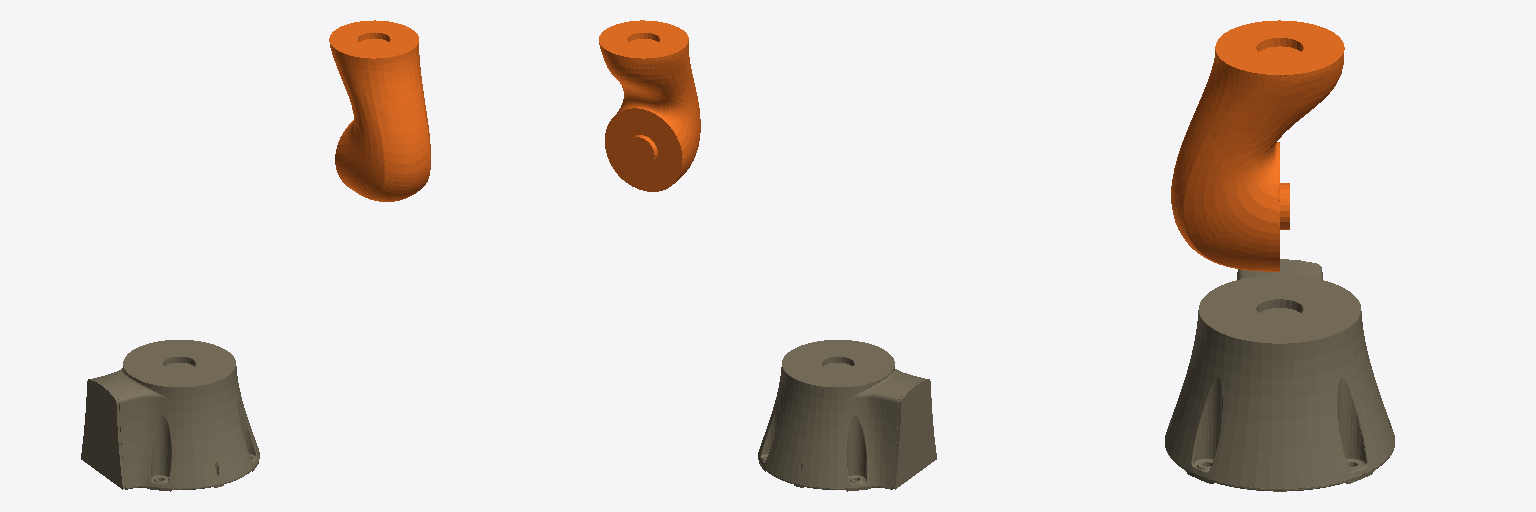
URDF robot description (kuka_kr6r700sixx):
<?xml version="1.0" encoding="utf-8"?>
<!-- =================================================================================== -->
<!-- |    This document was autogenerated by xacro from kr6r700sixx.xacro              | -->
<!-- |    EDITING THIS FILE BY HAND IS NOT RECOMMENDED                                 | -->
<!-- =================================================================================== -->
<robot name="kuka_kr6r700sixx">
  <!-- colours based on RAL values given in "FAQ - Colours of robot and robot
       controller", version "KUKA.Tifs | 2010-01-21 |YM| DefaultColorsRobotAndController.doc",
       downloaded 2015-07-18 from
       http://www.kuka.be/main/cservice/faqs/hardware/DefaultColorsRobotAndController.pdf

       all RAL colours converted using http://www.visual-graphics.de/en/customer-care/ral-colours
  -->
  <link name="base_link">
    <visual>
      <origin rpy="0 0 0" xyz="0 0 0"/>
      <geometry>
        <mesh filename="./meshes/kr6_agilus/visual/base_link.dae"/>
      </geometry>
      <material name="">
        <color rgba="0.505882352941 0.470588235294 0.388235294118 1.0"/>
      </material>
    </visual>
    <collision>
      <origin rpy="0 0 0" xyz="0 0 0"/>
      <geometry>
        <mesh filename="./meshes/kr6_agilus/collision/base_link.stl"/>
      </geometry>
    </collision>
  </link>
  <link name="link_1">
    <visual>
      <origin rpy="0 0 0" xyz="0 0 0"/>
      <geometry>
        <mesh filename="./meshes/kr6_agilus/visual/link_1.dae"/>
      </geometry>
      <material name="">
        <color rgba="0.964705882353 0.470588235294 0.156862745098 1.0"/>
      </material>
    </visual>
    <collision>
      <origin rpy="0 0 0" xyz="0 0 0"/>
      <geometry>
        <mesh filename="./meshes/kr6_agilus/collision/link_1.stl"/>
      </geometry>
    </collision>
  </link>
  <link name="link_2">
    <visual>
      <origin rpy="0 0 0" xyz="0 0 0"/>
      <geometry>
        <mesh filename="./meshes/kr6r700sixx/visual/link_2.dae"/>
      </geometry>
      <material name="">
        <color rgba="0.964705882353 0.470588235294 0.156862745098 1.0"/>
      </material>
    </visual>
    <collision>
      <origin rpy="0 0 0" xyz="0 0 0"/>
      <geometry>
        <mesh filename="./meshes/kr6r700sixx/collision/link_2.stl"/>
      </geometry>
    </collision>
  </link>
  <link name="link_3">
    <visual>
      <origin rpy="0 0 0" xyz="0 0 0"/>
      <geometry>
        <mesh filename="./meshes/kr6_agilus/visual/link_3.dae"/>
      </geometry>
      <material name="">
        <color rgba="0.964705882353 0.470588235294 0.156862745098 1.0"/>
      </material>
    </visual>
    <collision>
      <origin rpy="0 0 0" xyz="0 0 0"/>
      <geometry>
        <mesh filename="./meshes/kr6_agilus/collision/link_3.stl"/>
      </geometry>
    </collision>
  </link>
  <link name="link_4">
    <visual>
      <origin rpy="0 0 0" xyz="0 0 0"/>
      <geometry>
        <mesh filename="./meshes/kr6r700sixx/visual/link_4.dae"/>
      </geometry>
      <material name="">
        <color rgba="0.964705882353 0.470588235294 0.156862745098 1.0"/>
      </material>
    </visual>
    <collision>
      <origin rpy="0 0 0" xyz="0 0 0"/>
      <geometry>
        <mesh filename="./meshes/kr6r700sixx/collision/link_4.stl"/>
      </geometry>
    </collision>
  </link>
  <link name="link_5">
    <visual>
      <origin rpy="0 0 0" xyz="0 0 0"/>
      <geometry>
        <mesh filename="./meshes/kr6_agilus/visual/link_5.dae"/>
      </geometry>
      <material name="">
        <color rgba="0.964705882353 0.470588235294 0.156862745098 1.0"/>
      </material>
    </visual>
    <collision>
      <origin rpy="0 0 0" xyz="0 0 0"/>
      <geometry>
        <mesh filename="./meshes/kr6_agilus/collision/link_5.stl"/>
      </geometry>
    </collision>
  </link>
  <link name="link_6">
    <visual>
      <origin rpy="0 0 0" xyz="0 0 0"/>
      <geometry>
        <mesh filename="./meshes/kr6_agilus/visual/link_6.dae"/>
      </geometry>
      <material name="">
        <color rgba="0.505882352941 0.470588235294 0.388235294118 1.0"/>
      </material>
    </visual>
    <collision>
      <origin rpy="0 0 0" xyz="0 0 0"/>
      <geometry>
        <mesh filename="./meshes/kr6_agilus/collision/link_6.stl"/>
      </geometry>
    </collision>
  </link>
  <!-- This frame corresponds to the $FLANGE coordinate system in KUKA KRC controllers. -->
  <link name="tool0"/>
  <joint name="joint_a1" type="revolute">
    <origin rpy="0 0 0" xyz="0 0 0.4"/>
    <parent link="base_link"/>
    <child link="link_1"/>
    <axis xyz="0 0 -1"/>
    <limit effort="0" lower="-2.96705972839" upper="2.96705972839" velocity="6.28318530718"/>
  </joint>
  <joint name="joint_a2" type="revolute">
    <origin rpy="0 0 0" xyz="0.025 0 0"/>
    <parent link="link_1"/>
    <child link="link_2"/>
    <axis xyz="0 1 0"/>
    <limit effort="0" lower="-3.31612557879" upper="0.785398163397" velocity="5.23598775598"/>
  </joint>
  <joint name="joint_a3" type="revolute">
    <origin rpy="0 0 0" xyz="0.315 0 0"/>
    <parent link="link_2"/>
    <child link="link_3"/>
    <axis xyz="0 1 0"/>
    <limit effort="0" lower="-2.09439510239" upper="2.72271363311" velocity="6.28318530718"/>
  </joint>
  <joint name="joint_a4" type="revolute">
    <origin rpy="0 0 0" xyz="0 0 0.035"/>
    <parent link="link_3"/>
    <child link="link_4"/>
    <axis xyz="-1 0 0"/>
    <limit effort="0" lower="-3.22885911619" upper="3.22885911619" velocity="6.6497044501"/>
  </joint>
  <joint name="joint_a5" type="revolute">
    <origin rpy="0 0 0" xyz="0.365 0 0"/>
    <parent link="link_4"/>
    <child link="link_5"/>
    <axis xyz="0 1 0"/>
    <limit effort="0" lower="-2.09439510239" upper="2.09439510239" velocity="6.77187749774"/>
  </joint>
  <joint name="joint_a6" type="revolute">
    <origin rpy="0 0 0" xyz="0.080 0 0"/>
    <parent link="link_5"/>
    <child link="link_6"/>
    <axis xyz="-1 0 0"/>
    <limit effort="0" lower="-6.10865238198" upper="6.10865238198" velocity="10.7337748998"/>
  </joint>
  <joint name="joint_a6-tool0" type="fixed">
    <parent link="link_6"/>
    <child link="tool0"/>
    <origin rpy="0 1.57079632679 0" xyz="0 0 0"/>
  </joint>
  <!-- ROS base_link to KUKA $ROBROOT coordinate system transform -->
  <link name="base"/>
  <joint name="base_link-base" type="fixed">
    <origin rpy="0 0 0" xyz="0 0 0"/>
    <parent link="base_link"/>
    <child link="base"/>
  </joint>
</robot>

--- What the picture shows (computed from the rendered views, not written in the file) ---
Views: 3 orthographic renders of the robot side by side, from view 1: azimuth 30°, elevation 25°; view 2: azimuth 150°, elevation 25°; view 3: azimuth 270°, elevation 25°.
Robot: kuka_kr6r700sixx — 9 links, 8 joints (6 revolute, 2 fixed); root link base_link; default pose: every joint at zero.
Links seen in each view (by area): view 1: base_link, link_4; view 2: base_link, link_4; view 3: base_link, link_4.
Boxes of the visible links, bbox=[...] form: base_link: bbox=[81, 340, 259, 491]; link_4: bbox=[329, 20, 430, 201]; base_link: bbox=[758, 340, 936, 491]; link_4: bbox=[599, 20, 700, 191]; base_link: bbox=[1165, 259, 1394, 491]; link_4: bbox=[1171, 20, 1344, 271].
Bounding box of the posed robot: 0.544 × 0.2426 × 0.6195 m (x, y, z).
Meshes: 7 distinct files referenced, 2 mesh visuals loaded (2 Collada DAE); not drawn: 5 (reference not matched to a file when rendering).